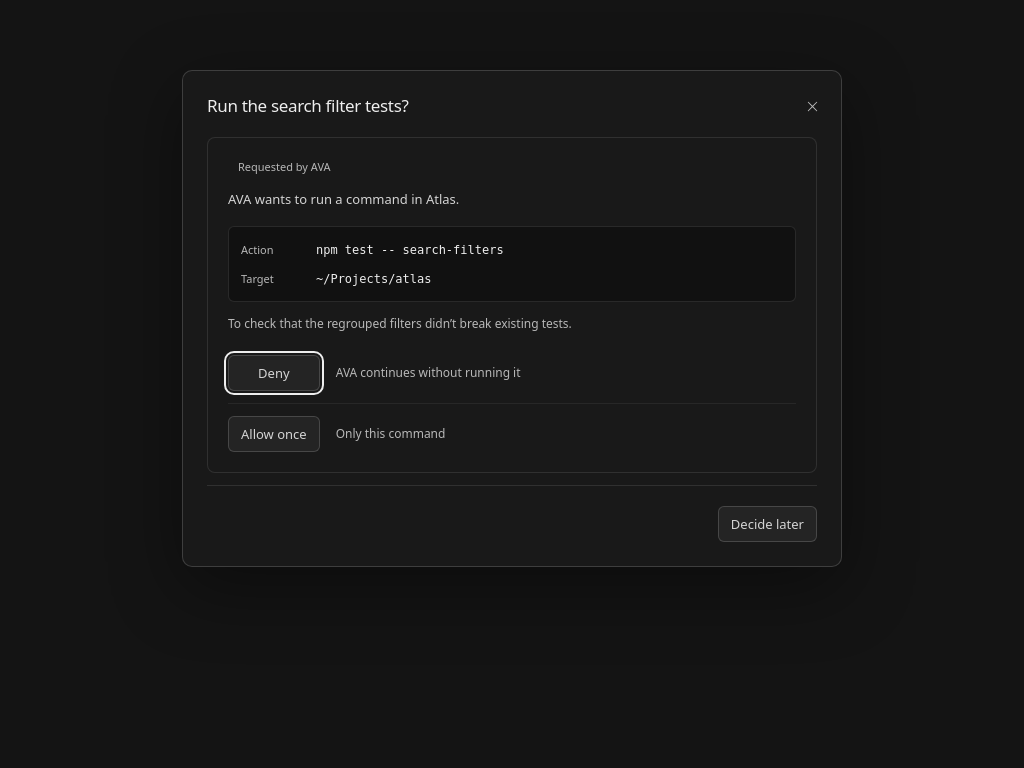
Test case: SCREEN11-F03 explicit same-modal content transitions › keeps focus on the chosen permission decision while the others lock
Click the button "Allow once" at (274, 434), box [228, 416, 320, 452]
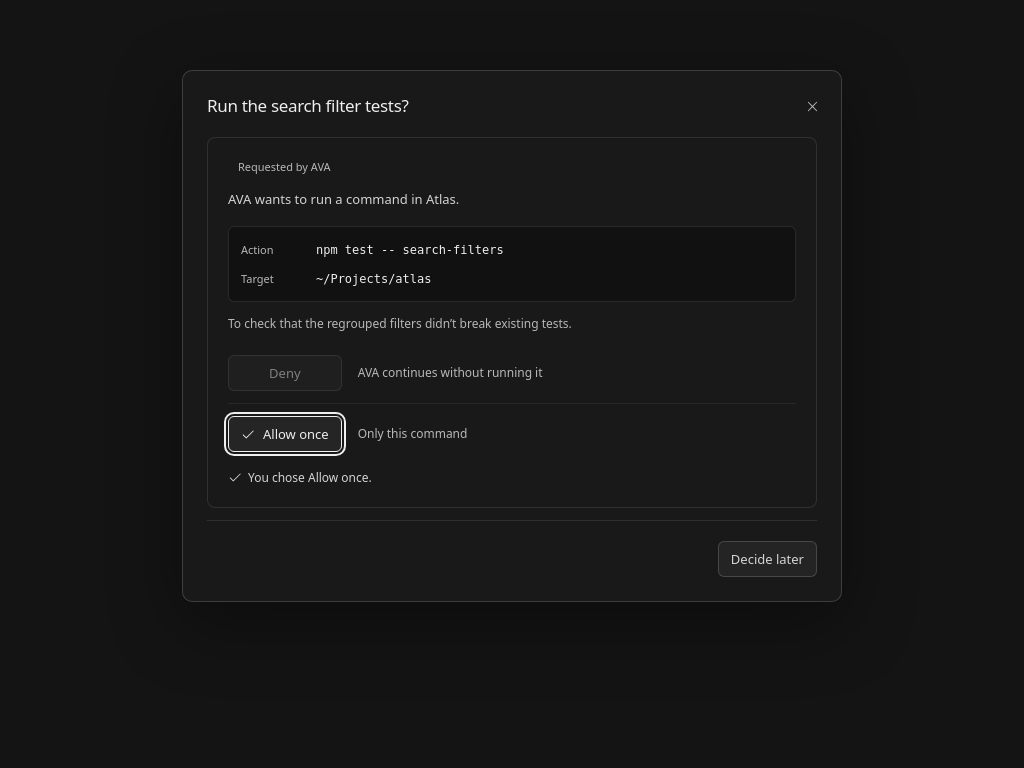
Result: the button "Deny" is disabled at [228, 355, 342, 391]
